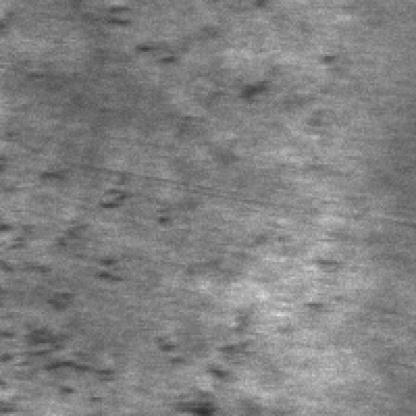rolled-in_scale: (4, 228, 262, 405), (141, 44, 352, 144)
